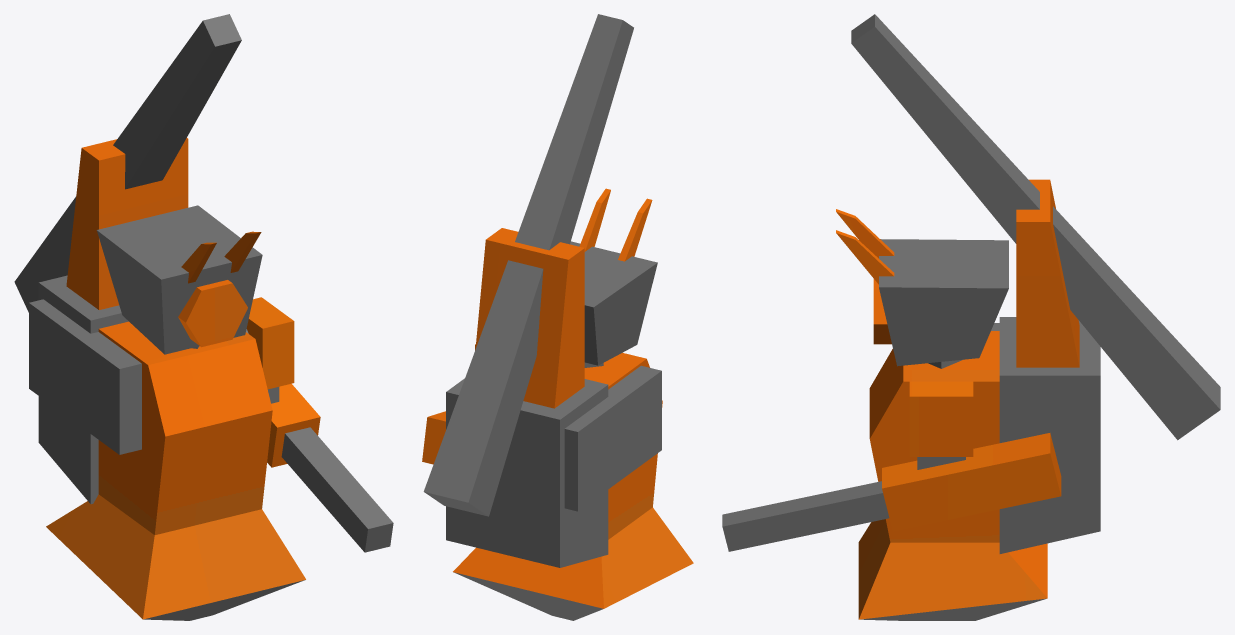
File: boss_2.obj
The picture shows the model from 3 angles, left to right: view 1: azimuth 30°, elevation 25°; view 2: azimuth 150°, elevation 25°; view 3: azimuth 270°, elevation 25°; orthographic projection. The views are drawn at different scales.
Visible parts, largest first — view 1: Body, Head, Cannon, right_arm, Cannon_connecter, left_arm_weapon3, Bagpack, Head_camera, left_arm_weapon, left_arm_weapon2, pCube14, pCube15; view 2: Cannon, Bagpack, Body, Cannon_connecter, right_arm, Head, left_arm_weapon2, pCube15, pCube14; view 3: Cannon, Body, Bagpack, Head, left_arm_weapon2, Cannon_connecter, left_arm_weapon3, left_arm_weapon, pCube14, pCube15, Head_camera.
Boxes of the visible parts, left/top/right/bottom form: Body: left=46, top=321, right=305, bottom=620; Head: left=96, top=205, right=262, bottom=354; Cannon: left=14, top=14, right=241, bottom=312; right_arm: left=29, top=299, right=141, bottom=454; Cannon_connecter: left=66, top=138, right=188, bottom=309; left_arm_weapon3: left=281, top=427, right=393, bottom=552; Bagpack: left=38, top=275, right=128, bottom=504; Head_camera: left=178, top=280, right=247, bottom=347; left_arm_weapon: left=246, top=297, right=294, bottom=389; left_arm_weapon2: left=267, top=383, right=320, bottom=467; pCube14: left=224, top=231, right=261, bottom=272; pCube15: left=181, top=242, right=216, bottom=283; Cannon: left=423, top=14, right=633, bottom=516; Bagpack: left=446, top=378, right=608, bottom=567; Body: left=453, top=353, right=693, bottom=620; Cannon_connecter: left=475, top=228, right=584, bottom=408; right_arm: left=564, top=365, right=661, bottom=511; Head: left=570, top=241, right=657, bottom=365; left_arm_weapon2: left=422, top=411, right=445, bottom=464; pCube15: left=618, top=198, right=652, bottom=261; pCube14: left=579, top=188, right=610, bottom=251; Cannon: left=851, top=14, right=1220, bottom=440; Body: left=858, top=331, right=1047, bottom=620; Bagpack: left=999, top=317, right=1100, bottom=553; Head: left=879, top=239, right=1008, bottom=366; left_arm_weapon2: left=882, top=433, right=1061, bottom=531; Cannon_connecter: left=1016, top=179, right=1079, bottom=367; left_arm_weapon3: left=722, top=481, right=889, bottom=551; left_arm_weapon: left=909, top=381, right=973, bottom=456; pCube14: left=836, top=230, right=894, bottom=284; pCube15: left=836, top=209, right=894, bottom=258; Head_camera: left=873, top=279, right=891, bottom=344.
Size of the model in its own units: 4.06 by 12.51 by 9.49.
Materials: 1 (1 with a texture image).
